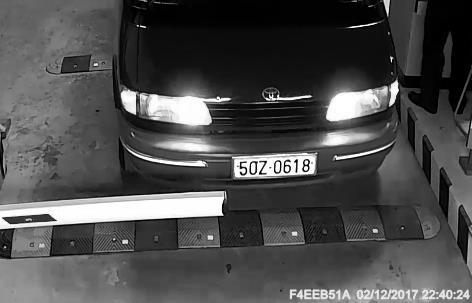License-plate: (227, 144, 322, 186)
